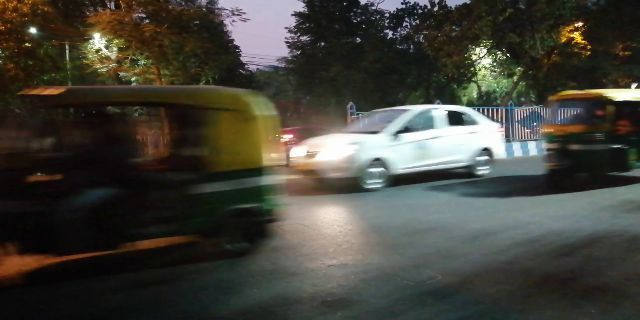Autorickshaw: (20, 85, 285, 241), (539, 86, 634, 185)
Car: (305, 94, 507, 201)
